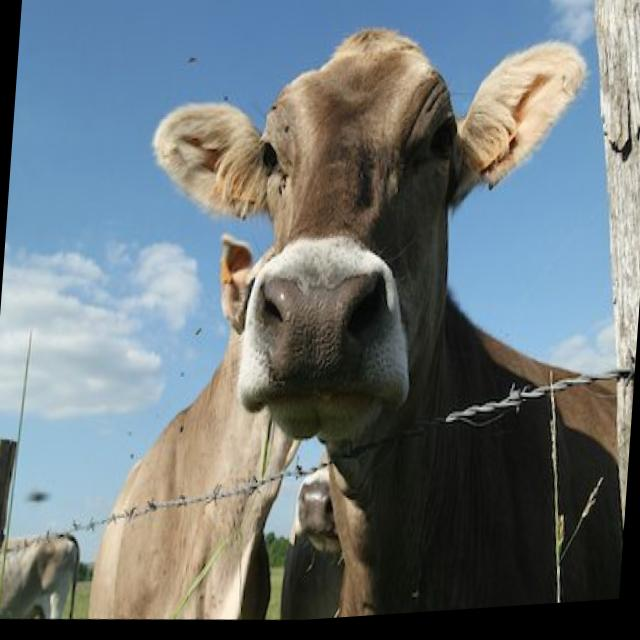cowFace: (127, 0, 605, 518)
